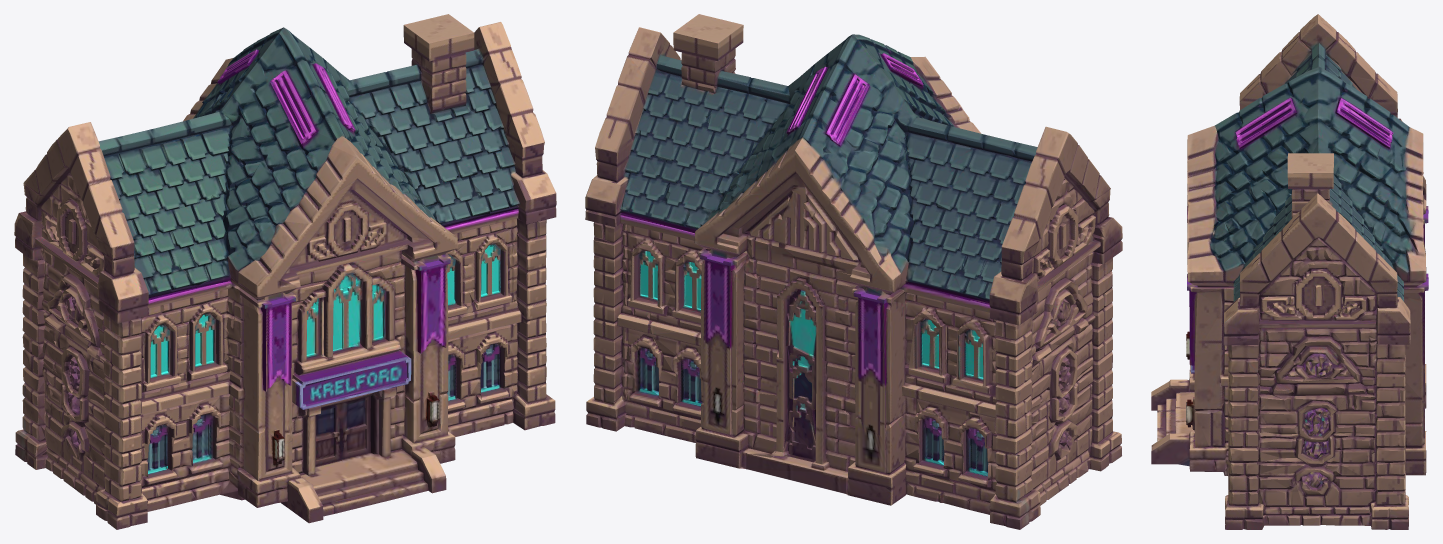
Rendered from townhall.glb.
The picture shows the model from 3 angles, left to right: view 1: azimuth 30°, elevation 25°; view 2: azimuth 150°, elevation 25°; view 3: azimuth 270°, elevation 25°; orthographic projection. The views are drawn at different scales.
Bounding box in the file's own units: 24 × 21.42 × 14.64.
Materials: 1 (1 with a texture image).
